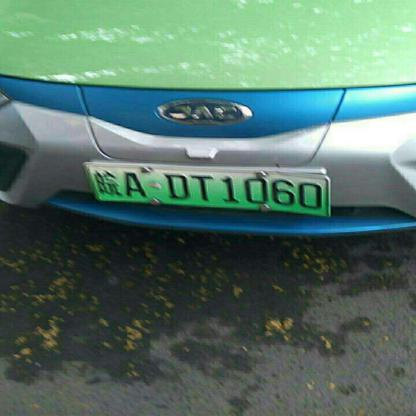lp: (86, 164, 328, 215)
